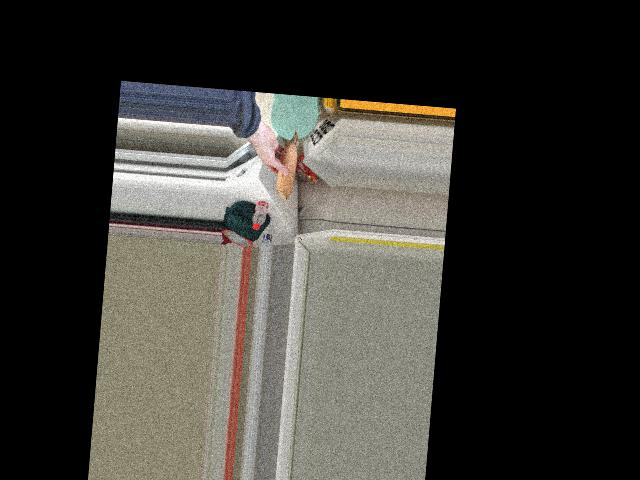sweet_potato: (273, 134, 298, 193)
